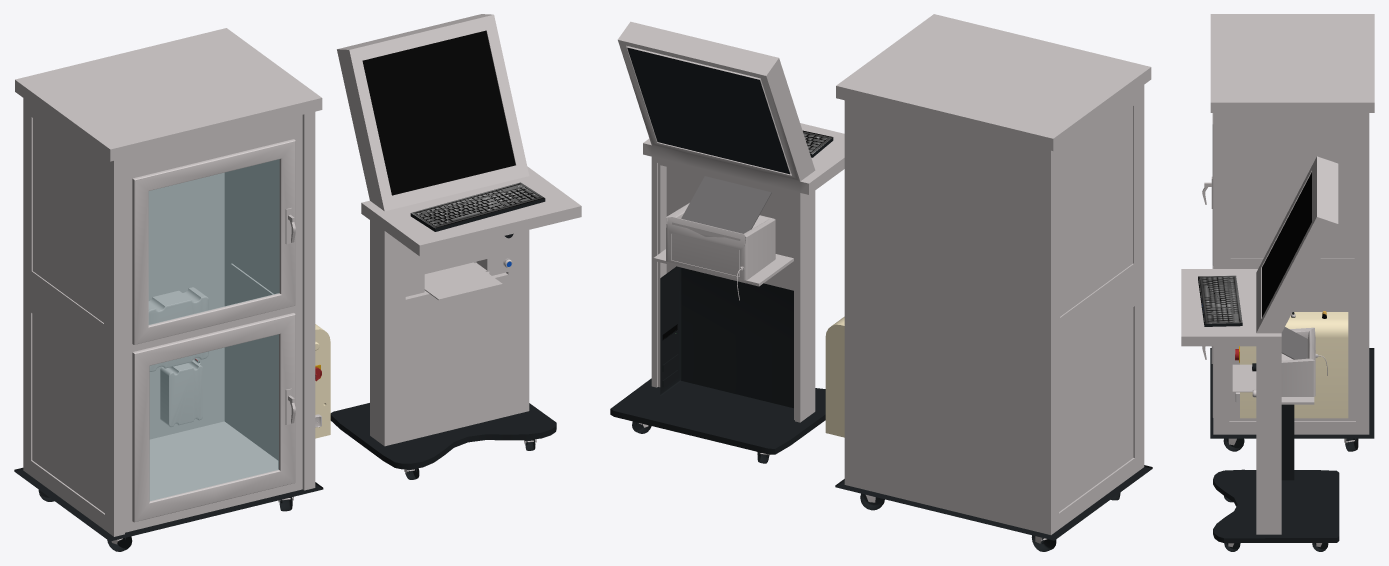
Rendered from electrospinning.obj.
The picture shows the model from 3 angles, left to right: view 1: azimuth 30°, elevation 25°; view 2: azimuth 150°, elevation 25°; view 3: azimuth 270°, elevation 25°; orthographic projection. The views are drawn at different scales.
Parts seen in each view (by area): view 1: Cube.021_Cube.026, Cube.016_Cube.021, Cube.043_Cube.004, Cube.017_Cube.022, Plane.006_Plane.010, Cube.027_Cube.042, Cube.020_Cube.025, Cube.026_Cube.041, Cube.024_Cube.034; view 2: Cube.021_Cube.026, Cube.016_Cube.021, Cube.019_Cube.024, Cube.017_Cube.022, Cube.020_Cube.025, Cube.024_Cube.034; view 3: Cube.021_Cube.026, Cube.016_Cube.021, Cube.017_Cube.022, Cube.024_Cube.034, Cube.020_Cube.025, Plane.006_Plane.010, Cube.019_Cube.024.
Part boxes in pixels (x1,y1,x2,y2): Cube.021_Cube.026: (14,28,323,551); Cube.016_Cube.021: (337,14,581,479); Cube.043_Cube.004: (149,159,279,500); Cube.017_Cube.022: (330,403,556,469); Plane.006_Plane.010: (410,182,545,231); Cube.027_Cube.042: (160,360,202,426); Cube.020_Cube.025: (424,258,502,300); Cube.026_Cube.041: (148,287,208,371); Cube.024_Cube.034: (315,324,330,438); Cube.021_Cube.026: (835,14,1152,551); Cube.016_Cube.021: (618,21,844,463); Cube.019_Cube.024: (660,266,793,408); Cube.017_Cube.022: (610,378,825,454); Cube.020_Cube.025: (666,176,775,300); Cube.024_Cube.034: (825,316,844,437); Cube.021_Cube.026: (1210,14,1374,451); Cube.016_Cube.021: (1181,156,1338,551); Cube.017_Cube.022: (1213,469,1339,543); Cube.024_Cube.034: (1235,311,1348,418); Cube.020_Cube.025: (1232,327,1327,396); Plane.006_Plane.010: (1198,275,1242,326); Cube.019_Cube.024: (1281,404,1294,517).
Bounding box in the file's own units: 14.56 × 12.74 × 6.25.
